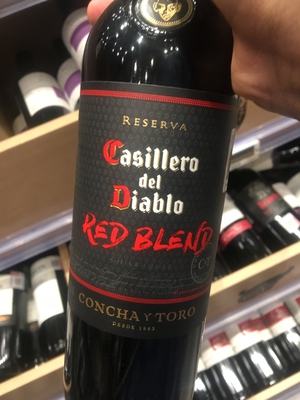casillero del diablo red blend: (66, 1, 241, 400)
